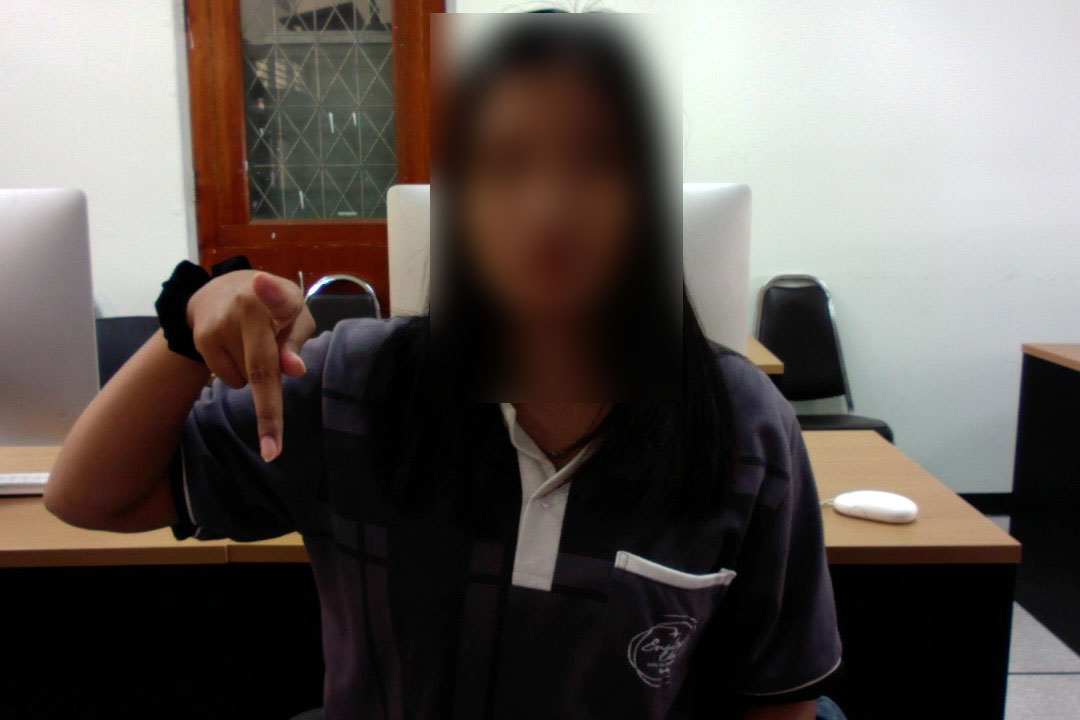por: (176, 250, 322, 471)
